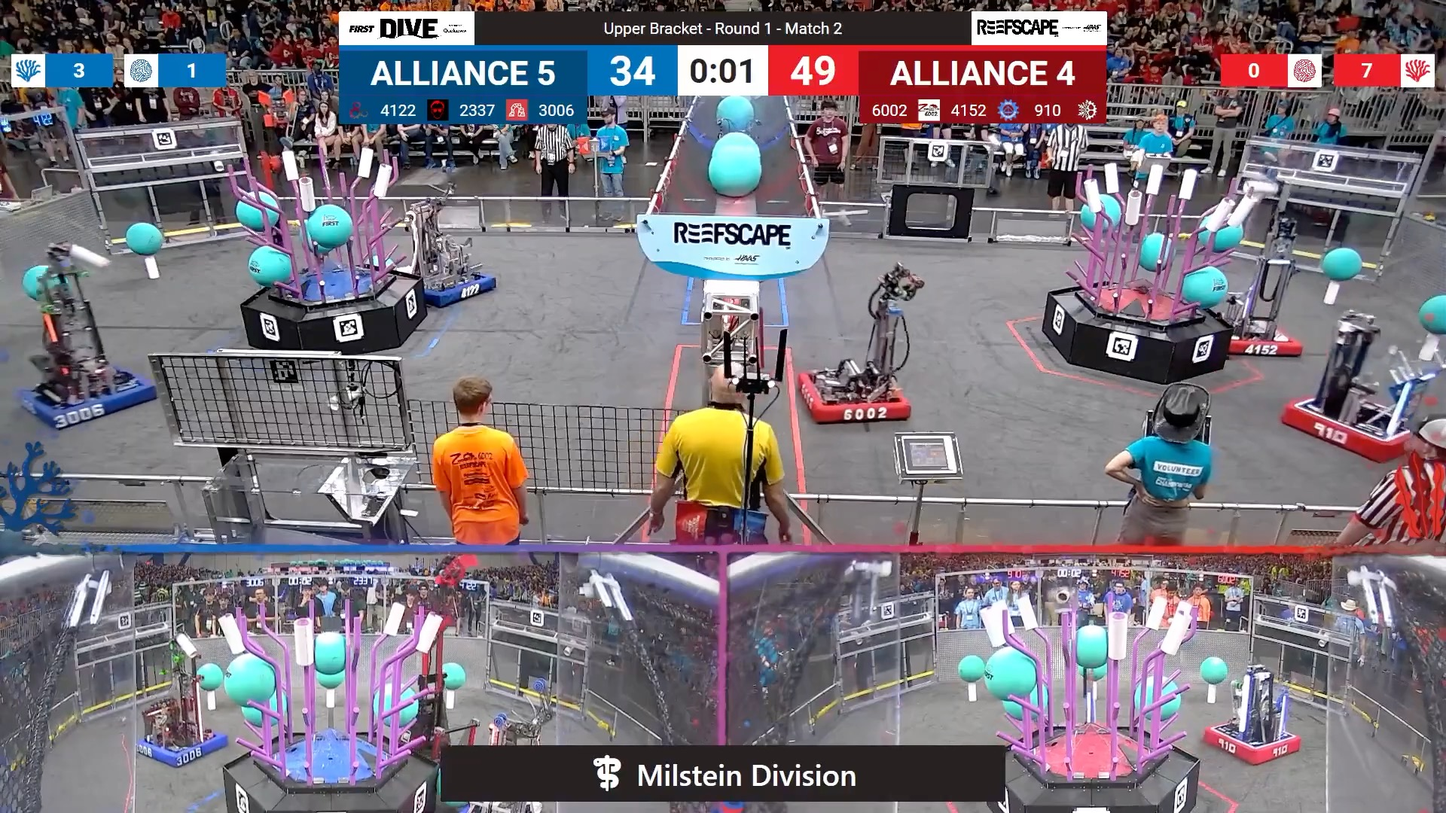bumpers: (1277, 388, 1433, 463), (14, 367, 161, 434), (790, 368, 919, 429), (391, 259, 502, 307), (128, 726, 235, 772), (1199, 722, 1304, 766), (1214, 318, 1308, 362)
